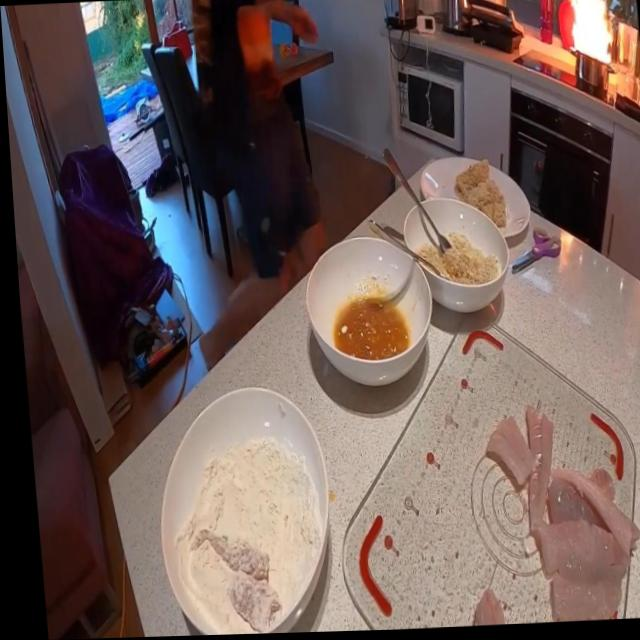fire: (562, 0, 615, 72)
